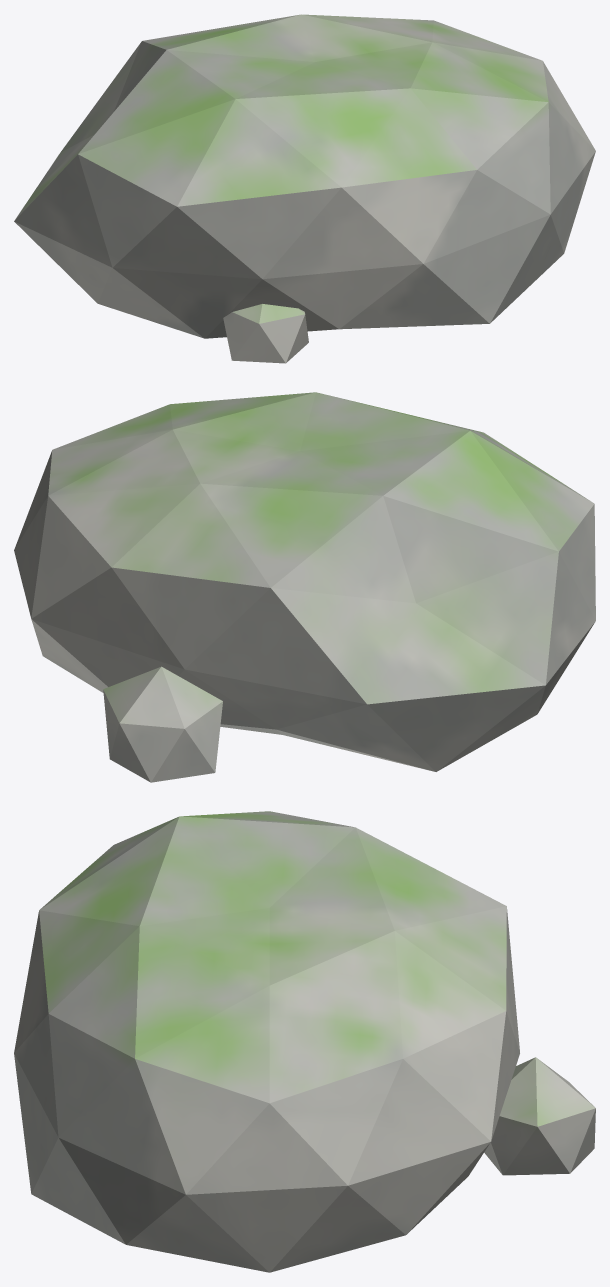
The model's file is rock_a.gltf.
3 renders of one model, top to bottom at view 1: azimuth 30°, elevation 25°; view 2: azimuth 150°, elevation 25°; view 3: azimuth 270°, elevation 25°, orthographic. The views are drawn at different scales.
Visible parts, largest first — view 1: rock_a; view 2: rock_a; view 3: rock_a.
Part boxes in pixels (x1,y1,x2,y2): rock_a: [14, 14, 595, 363]; rock_a: [14, 392, 595, 782]; rock_a: [14, 811, 595, 1272].
Size of the model in its own units: 1.45 by 0.6185 by 1.22.
Materials: 1 (1 with a texture image).
